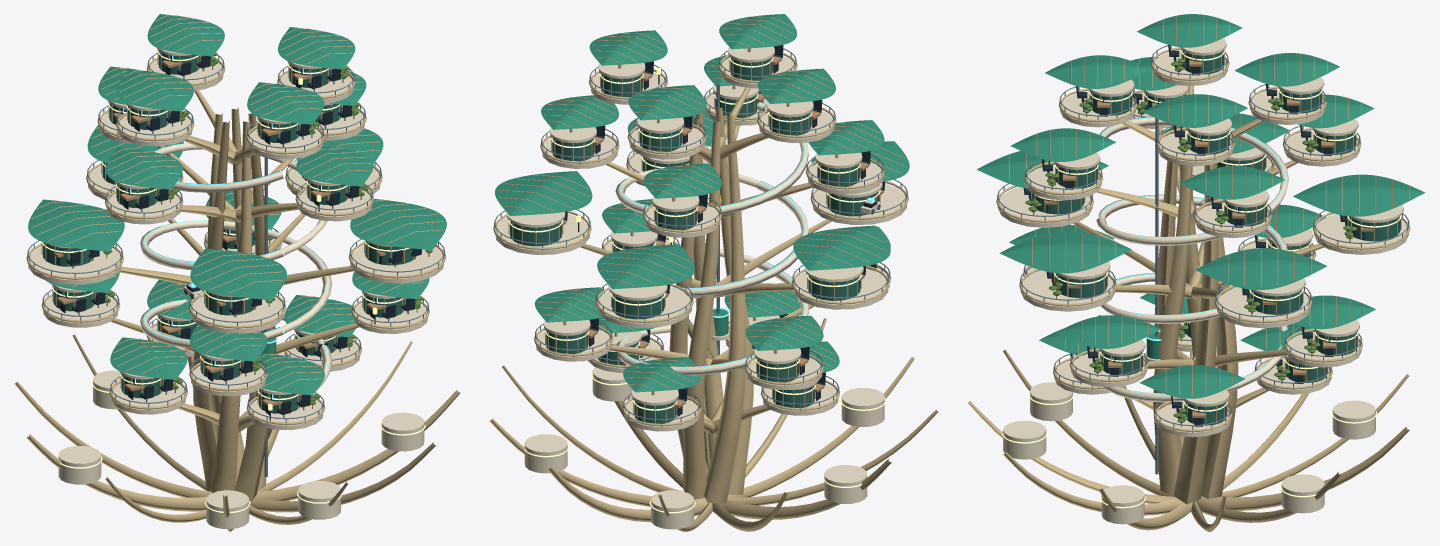
The model's file is opensource-low.glb.
3 views of the same model, side by side, from view 1: azimuth 30°, elevation 25°; view 2: azimuth 150°, elevation 25°; view 3: azimuth 270°, elevation 25° (orthographic).
Visible parts, largest first — view 1: emerald_canopy, living_ivory_wood, ivory, tree_glazing, graphite, steel, warm_lamps, wood, garden_foliage, blue_lamps; view 2: living_ivory_wood, ivory, emerald_canopy, tree_glazing, steel, warm_lamps, graphite, wood, blue_lamps; view 3: living_ivory_wood, emerald_canopy, ivory, tree_glazing, steel, graphite, garden_foliage, warm_lamps, wood, blue_lamps.
Part boxes in pixels (bbox=[...]): emerald_canopy: bbox=[28, 14, 446, 395]; living_ivory_wood: bbox=[14, 15, 460, 531]; ivory: bbox=[28, 47, 443, 529]; tree_glazing: bbox=[43, 51, 416, 413]; graphite: bbox=[57, 55, 421, 420]; steel: bbox=[27, 53, 445, 476]; warm_lamps: bbox=[42, 51, 425, 512]; wood: bbox=[53, 55, 429, 408]; garden_foliage: bbox=[103, 52, 436, 404]; blue_lamps: bbox=[67, 55, 377, 398]; living_ivory_wood: bbox=[489, 16, 938, 531]; ivory: bbox=[495, 46, 906, 529]; emerald_canopy: bbox=[495, 14, 909, 392]; tree_glazing: bbox=[510, 57, 879, 423]; steel: bbox=[494, 48, 907, 426]; warm_lamps: bbox=[508, 57, 885, 513]; graphite: bbox=[563, 45, 884, 416]; wood: bbox=[544, 55, 883, 407]; blue_lamps: bbox=[619, 102, 805, 368]; living_ivory_wood: bbox=[968, 14, 1410, 531]; emerald_canopy: bbox=[977, 14, 1425, 398]; ivory: bbox=[997, 38, 1408, 524]; tree_glazing: bbox=[1032, 50, 1400, 425]; steel: bbox=[997, 45, 1409, 474]; graphite: bbox=[1023, 45, 1364, 426]; garden_foliage: bbox=[1025, 58, 1356, 423]; warm_lamps: bbox=[1002, 50, 1401, 508]; wood: bbox=[1031, 58, 1373, 426]; blue_lamps: bbox=[1068, 55, 1328, 409].
Bounding box in the file's own units: 15.55 × 17.18 × 15.94.
